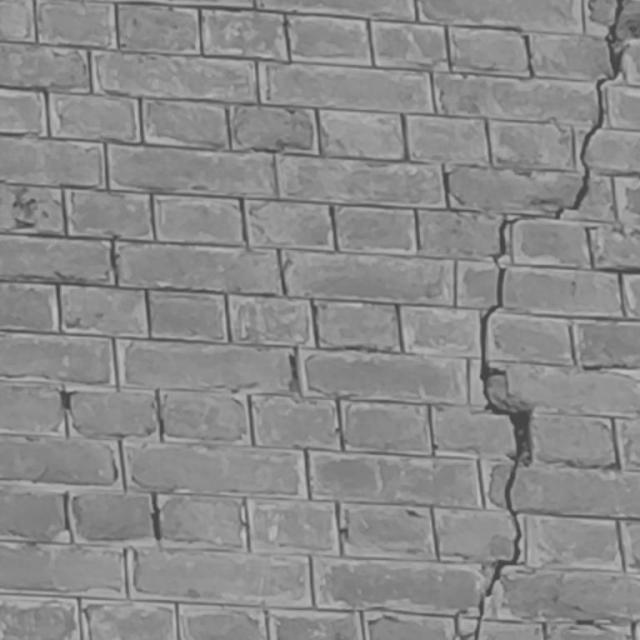crack: (473, 1, 629, 640)
